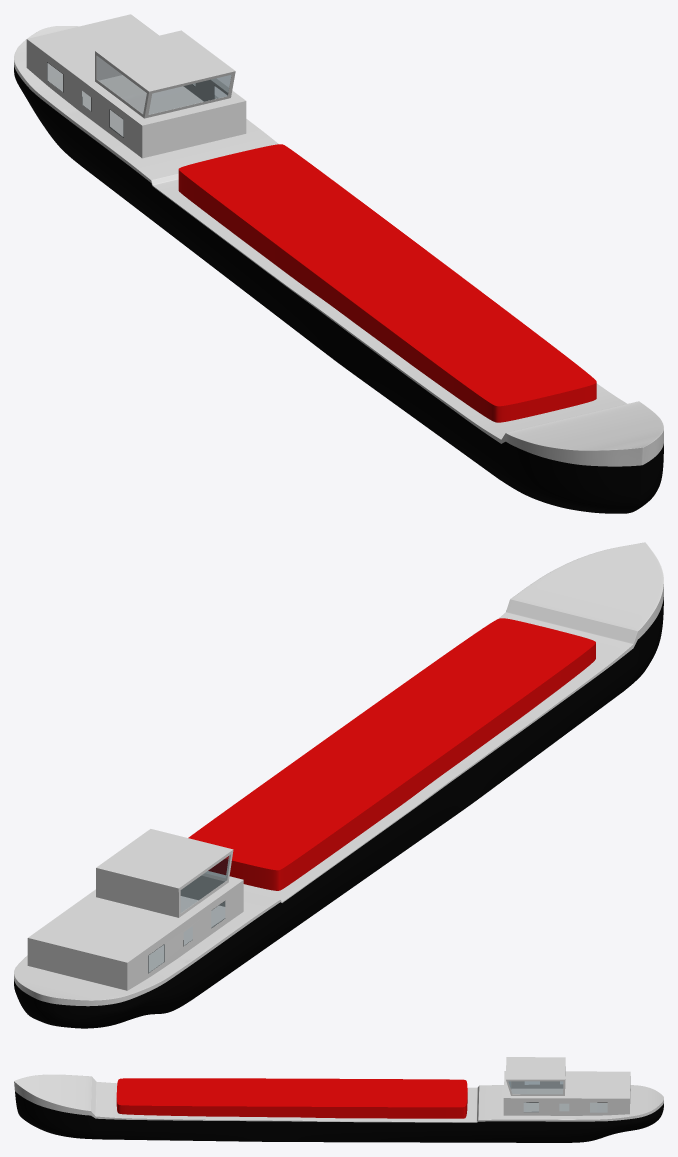
Rendered from ship.glb.
3 renders of one model, top to bottom at view 1: azimuth 30°, elevation 25°; view 2: azimuth 150°, elevation 25°; view 3: azimuth 270°, elevation 25°, orthographic. The views are drawn at different scales.
Parts seen in each view (by area): view 1: Cube.001, Cube.002, Cube.003; view 2: Cube.001, Cube.002, Cube.003; view 3: Cube.001, Cube.002, Cube.003.
Boxes of the visible parts, <box> form: Cube.001: <box>14,26,663,513</box>; Cube.002: <box>178,144,596,422</box>; Cube.003: <box>26,14,246,158</box>; Cube.001: <box>14,542,663,1028</box>; Cube.002: <box>188,618,595,890</box>; Cube.003: <box>27,829,243,990</box>; Cube.001: <box>14,1074,663,1142</box>; Cube.002: <box>116,1078,467,1118</box>; Cube.003: <box>503,1057,630,1115</box>.
Bounding box in the file's own units: 14.88 × 13.14 × 110.
